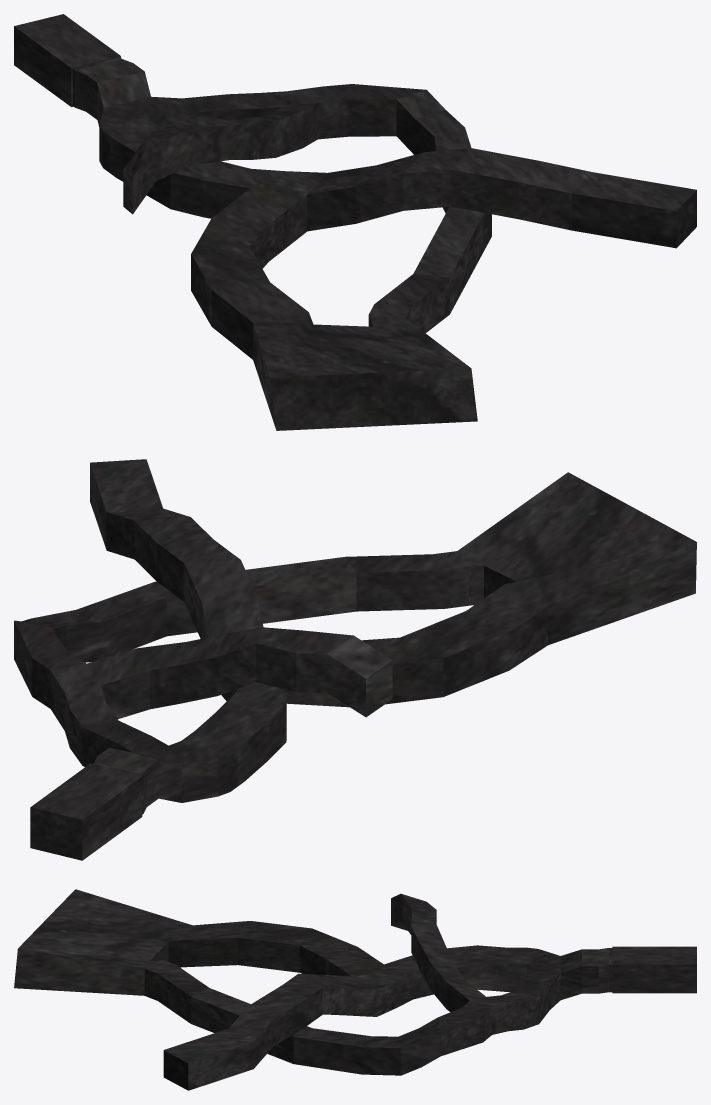
Rendered from Cave_01.fbx.
3 renders of one model, top to bottom at view 1: azimuth 30°, elevation 25°; view 2: azimuth 150°, elevation 25°; view 3: azimuth 270°, elevation 25°, orthographic. The views are drawn at different scales.
Visible parts, largest first — view 1: Cube; view 2: Cube; view 3: Cube.
Part boxes in pixels (<box>): Cube: <box>14,14,696,430</box>; Cube: <box>14,459,696,860</box>; Cube: <box>14,889,696,1090</box>.
Bounding box in the file's own units: 40514 × 8178 × 64593.
